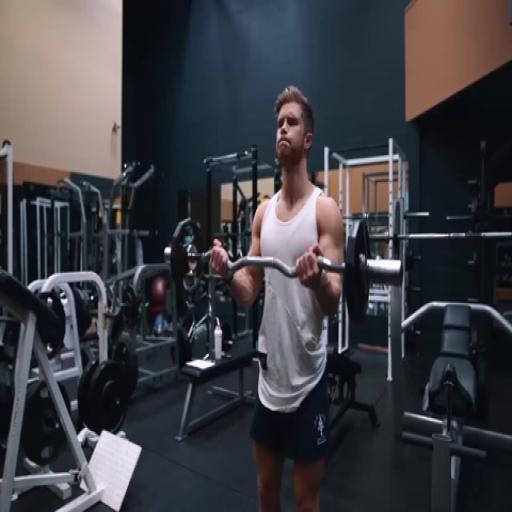exercise: (208, 84, 348, 510)
